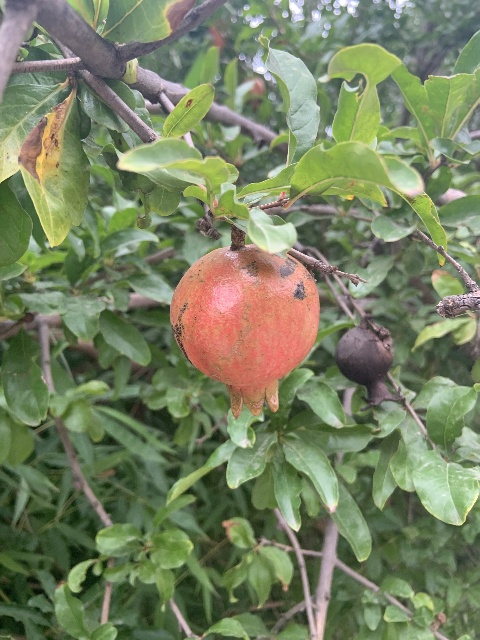ripe: (170, 243, 319, 418)
